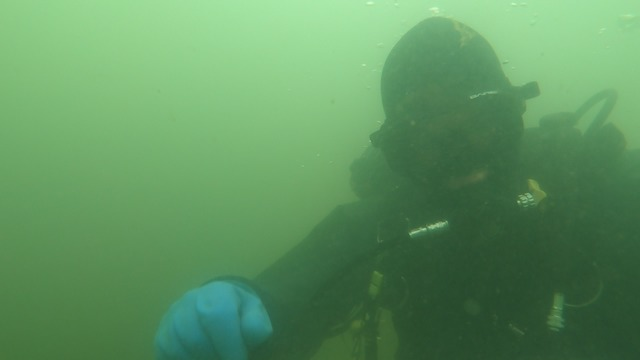Diver: (130, 22, 635, 355)
Head: (369, 3, 557, 226)
